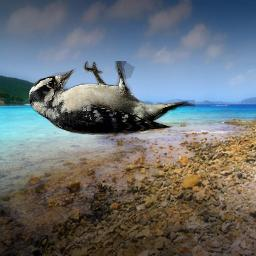Woodpecker: (29, 61, 195, 135)
